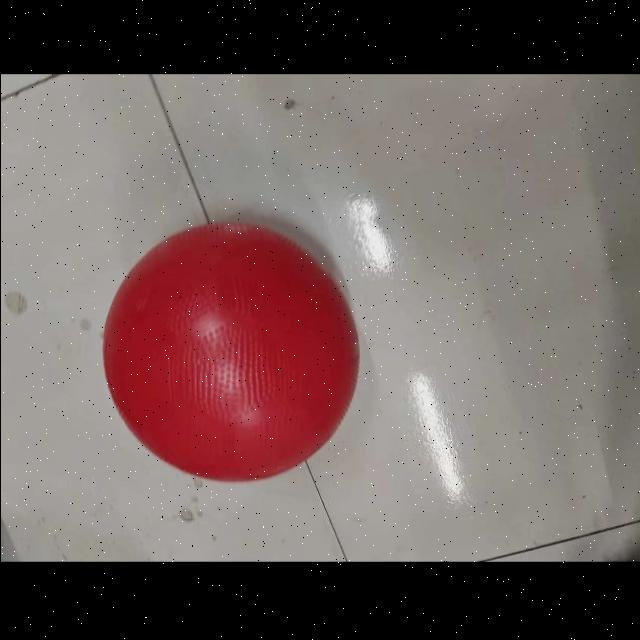R: (98, 218, 366, 490)
